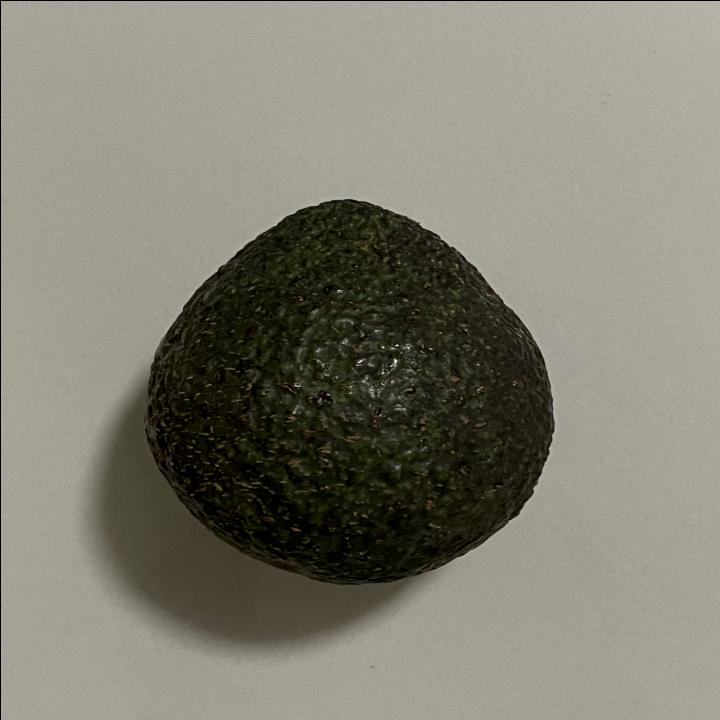Level1: (133, 186, 563, 594)
